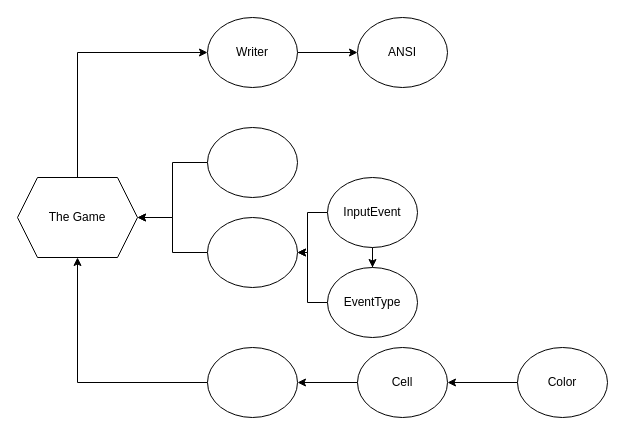
This 625x435 diagram has some shape labels left out. Here are the shapes that lost their labels. From the top down, the centre of each, then its label:
At [252,162]: "keydefaultdict".
At [252,252]: "Event".
At [252,382]: "Chunk".
